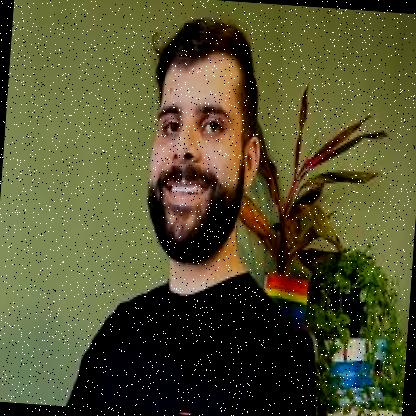sem_capacete: (130, 6, 276, 274)
sem_colete_refletivo: (61, 254, 329, 415)
